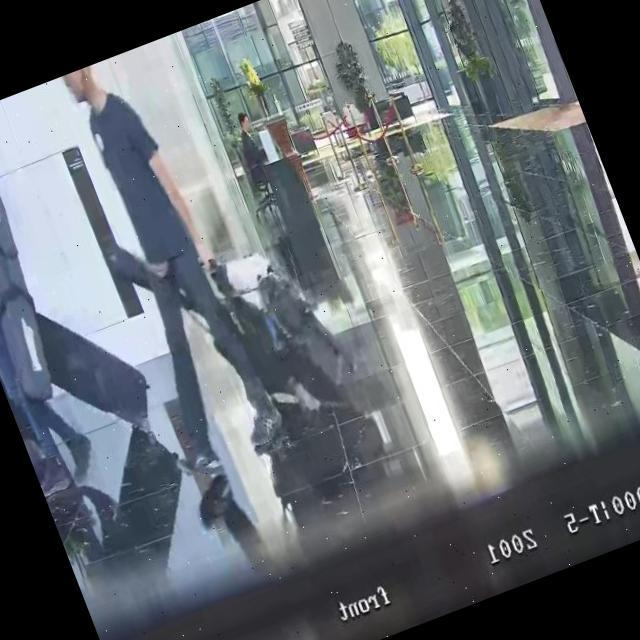person: (44, 46, 293, 480), (0, 112, 108, 501), (228, 110, 277, 196)
